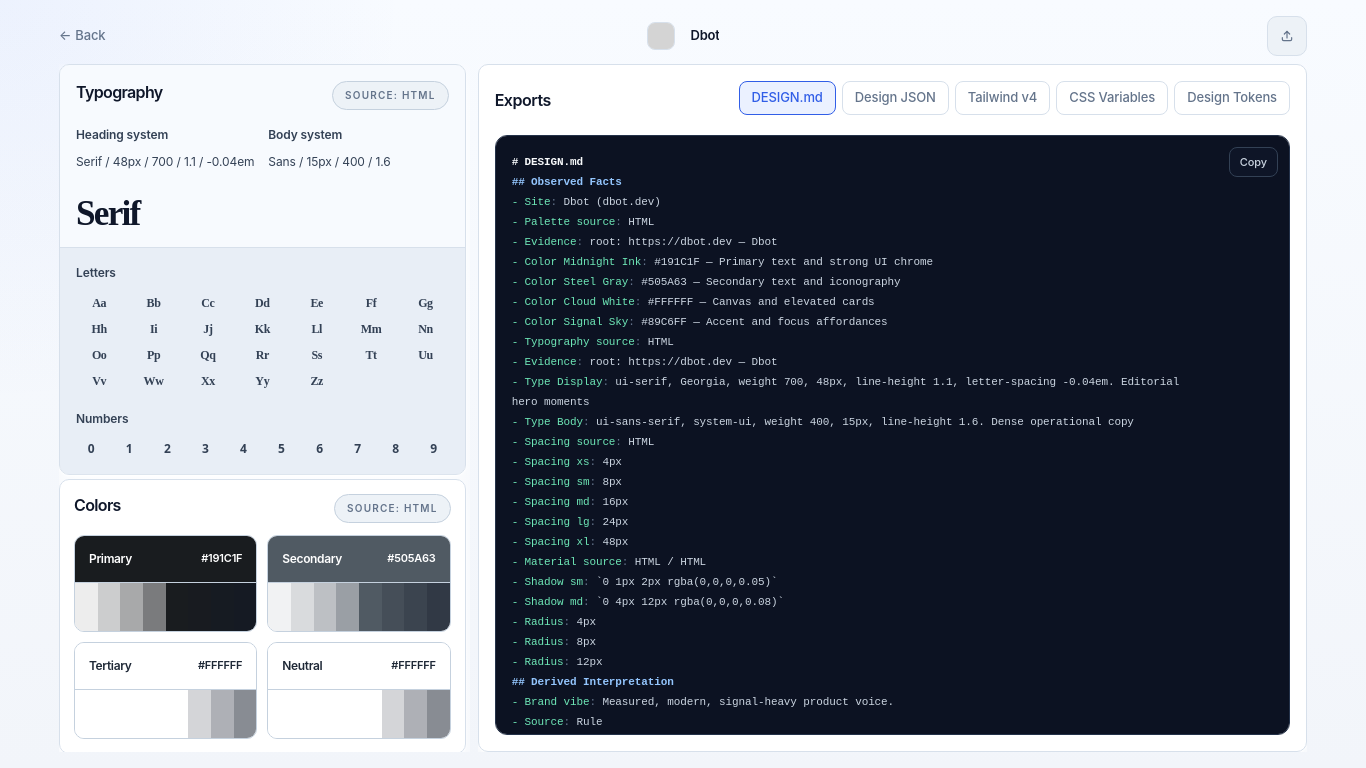
Test: results workbench layout › renders provenance tooltips outside the clipped sidebar panels
Hover over the 1st text "Source: HTML".
mouse_move(390, 96)  # box [345, 88, 436, 103]
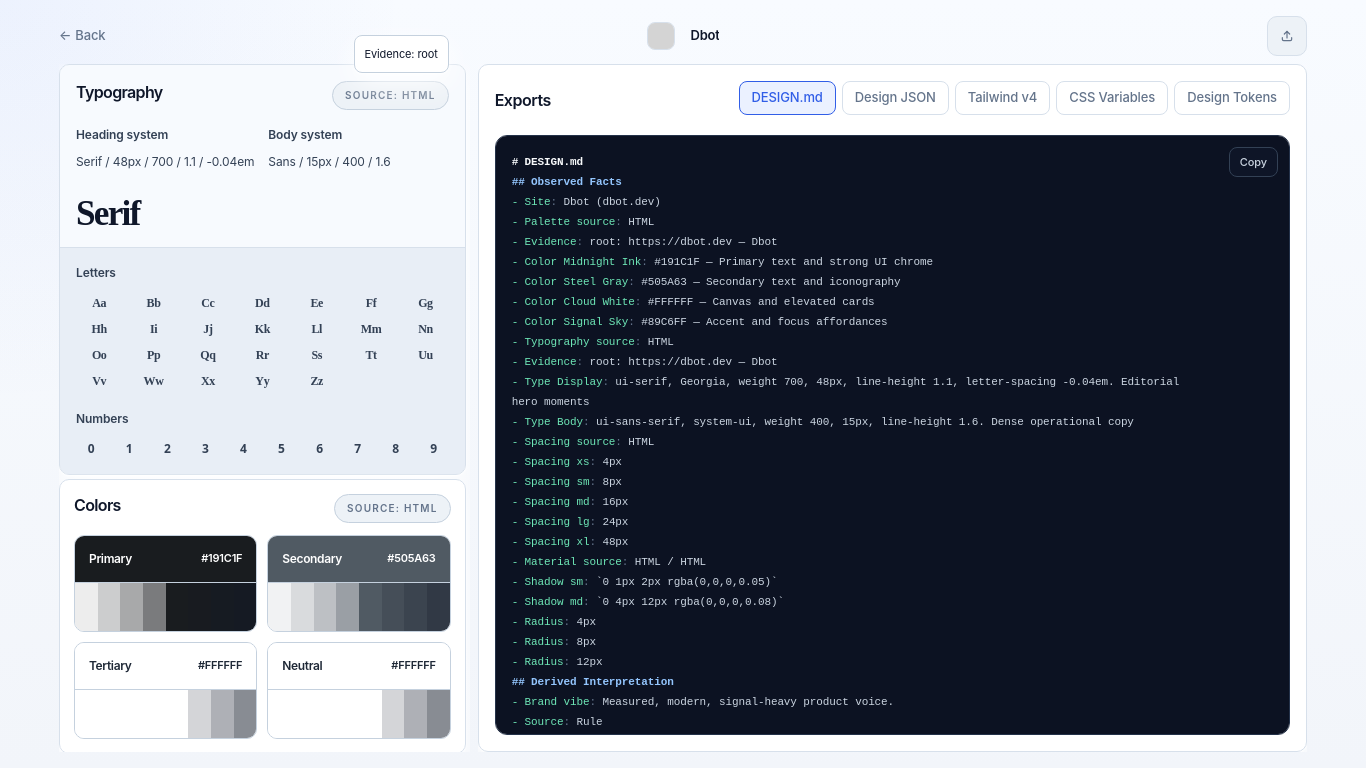
Result: the number of tooltips is 1 at [354, 35, 449, 73]
